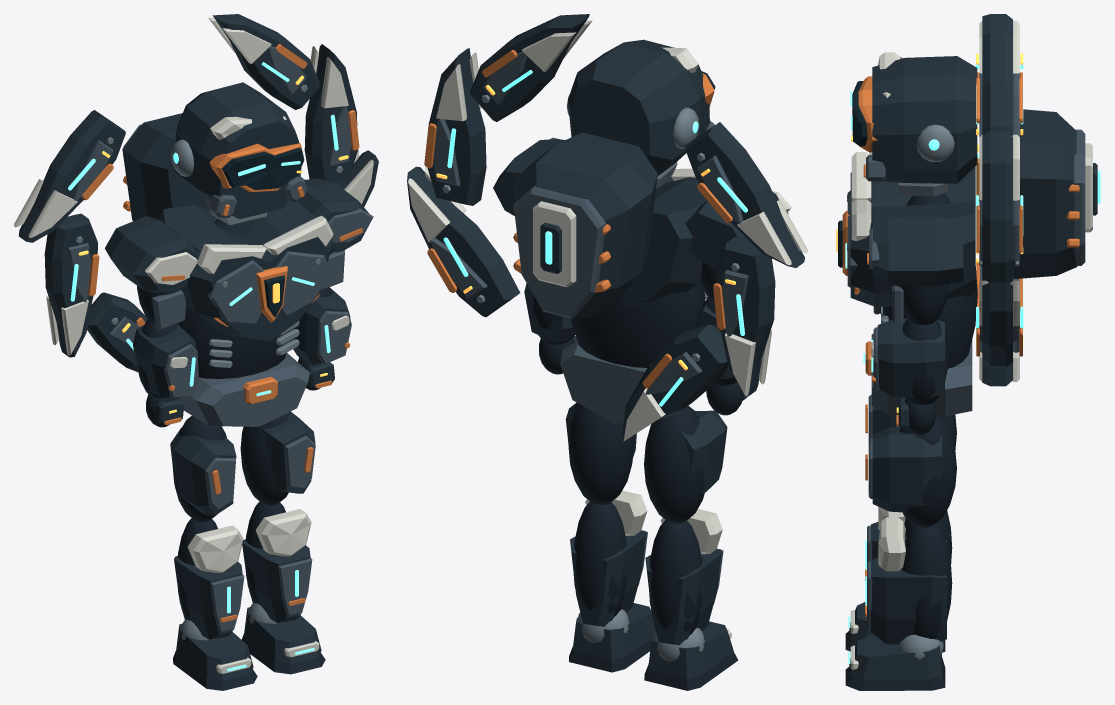
File: magnet-blender-wing.glb
3 views of the same model, side by side, from view 1: azimuth 30°, elevation 25°; view 2: azimuth 150°, elevation 25°; view 3: azimuth 270°, elevation 25° (orthographic). The views are drawn at different scales.
Parts seen in each view (by area): view 1: Torso_Shell, Helmet_Shell, Shin_R_Shell, Shin_L_Shell, Pole_L2_Shell, UpperArm_L_Shell, Pole_L1_Shell, Pole_R1_Shell, Thigh_R_Shell, Thigh_L_Shell, Yoke_Shell, Pole_R2_Shell (+9 smaller); view 2: Yoke_Shell, Torso_Shell, Helmet_Shell, Pole_L2_Shell, Shin_L_Shell, Shin_R_Shell, Pole_R0_Shell, Pole_L1_Shell, Thigh_L_Shell, Pole_R1_Shell, Pole_R2_Shell, Pole_L0_Shell (+9 smaller); view 3: Helmet_Shell, Torso_Shell, Yoke_Shell, Shin_R_Shell, UpperArm_R_Shell, Thigh_R_Shell, Pole_R1_Shell, Forearm_R_Shell, Pole_R2_Shell, Boot_R_Shell, Pole_R0_Shell, Pole_L0_Shell (+4 smaller).
Boxes of the visible parts, <box> form: Torso_Shell: <box>158,200,333,426</box>; Helmet_Shell: <box>171,82,307,219</box>; Shin_R_Shell: <box>242,501,312,623</box>; Shin_L_Shell: <box>174,518,244,639</box>; Pole_L2_Shell: <box>14,110,125,242</box>; UpperArm_L_Shell: <box>105,216,197,330</box>; Pole_L1_Shell: <box>44,213,99,357</box>; Pole_R1_Shell: <box>304,44,359,183</box>; Thigh_R_Shell: <box>240,411,315,505</box>; Thigh_L_Shell: <box>170,416,236,521</box>; Yoke_Shell: <box>122,113,209,220</box>; Pole_R2_Shell: <box>208,14,319,109</box>; Yoke_Shell: <box>512,132,657,318</box>; Torso_Shell: <box>560,162,707,423</box>; Helmet_Shell: <box>566,39,715,175</box>; Pole_L2_Shell: <box>685,122,807,267</box>; Shin_L_Shell: <box>645,509,723,645</box>; Shin_R_Shell: <box>570,490,647,626</box>; Pole_R0_Shell: <box>407,166,520,317</box>; Pole_L1_Shell: <box>713,236,775,396</box>; Thigh_L_Shell: <box>644,405,727,523</box>; Pole_R1_Shell: <box>424,48,486,205</box>; Pole_R2_Shell: <box>470,14,592,121</box>; Pole_L0_Shell: <box>622,324,727,441</box>; Helmet_Shell: <box>850,52,977,183</box>; Torso_Shell: <box>836,152,977,416</box>; Yoke_Shell: <box>979,109,1100,278</box>; Shin_R_Shell: <box>865,517,952,644</box>; UpperArm_R_Shell: <box>867,217,963,324</box>; Thigh_R_Shell: <box>865,416,956,527</box>; Pole_R1_Shell: <box>976,131,1023,283</box>; Forearm_R_Shell: <box>871,318,947,404</box>; Pole_R2_Shell: <box>976,14,1023,136</box>; Boot_R_Shell: <box>845,634,945,690</box>; Pole_R0_Shell: <box>976,280,1023,367</box>; Pole_L0_Shell: <box>976,259,1023,386</box>.
Size of the model in its own units: 1.36 by 2.25 by 0.8235.
